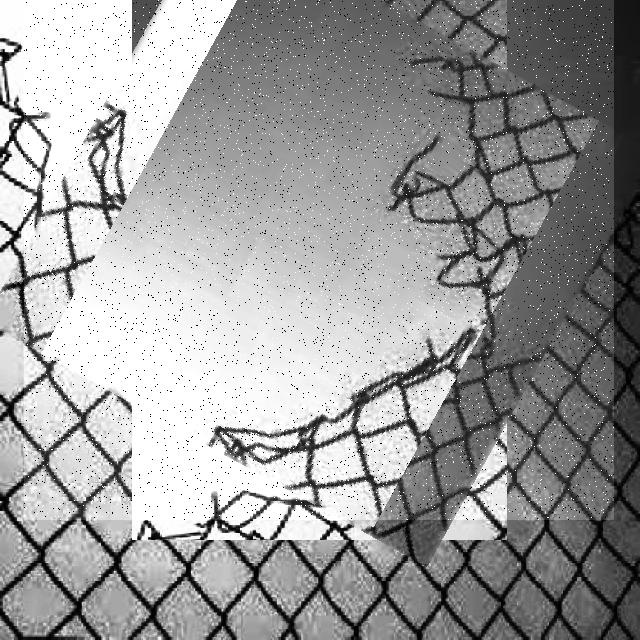anomaly-fence: (24, 0, 614, 520)
